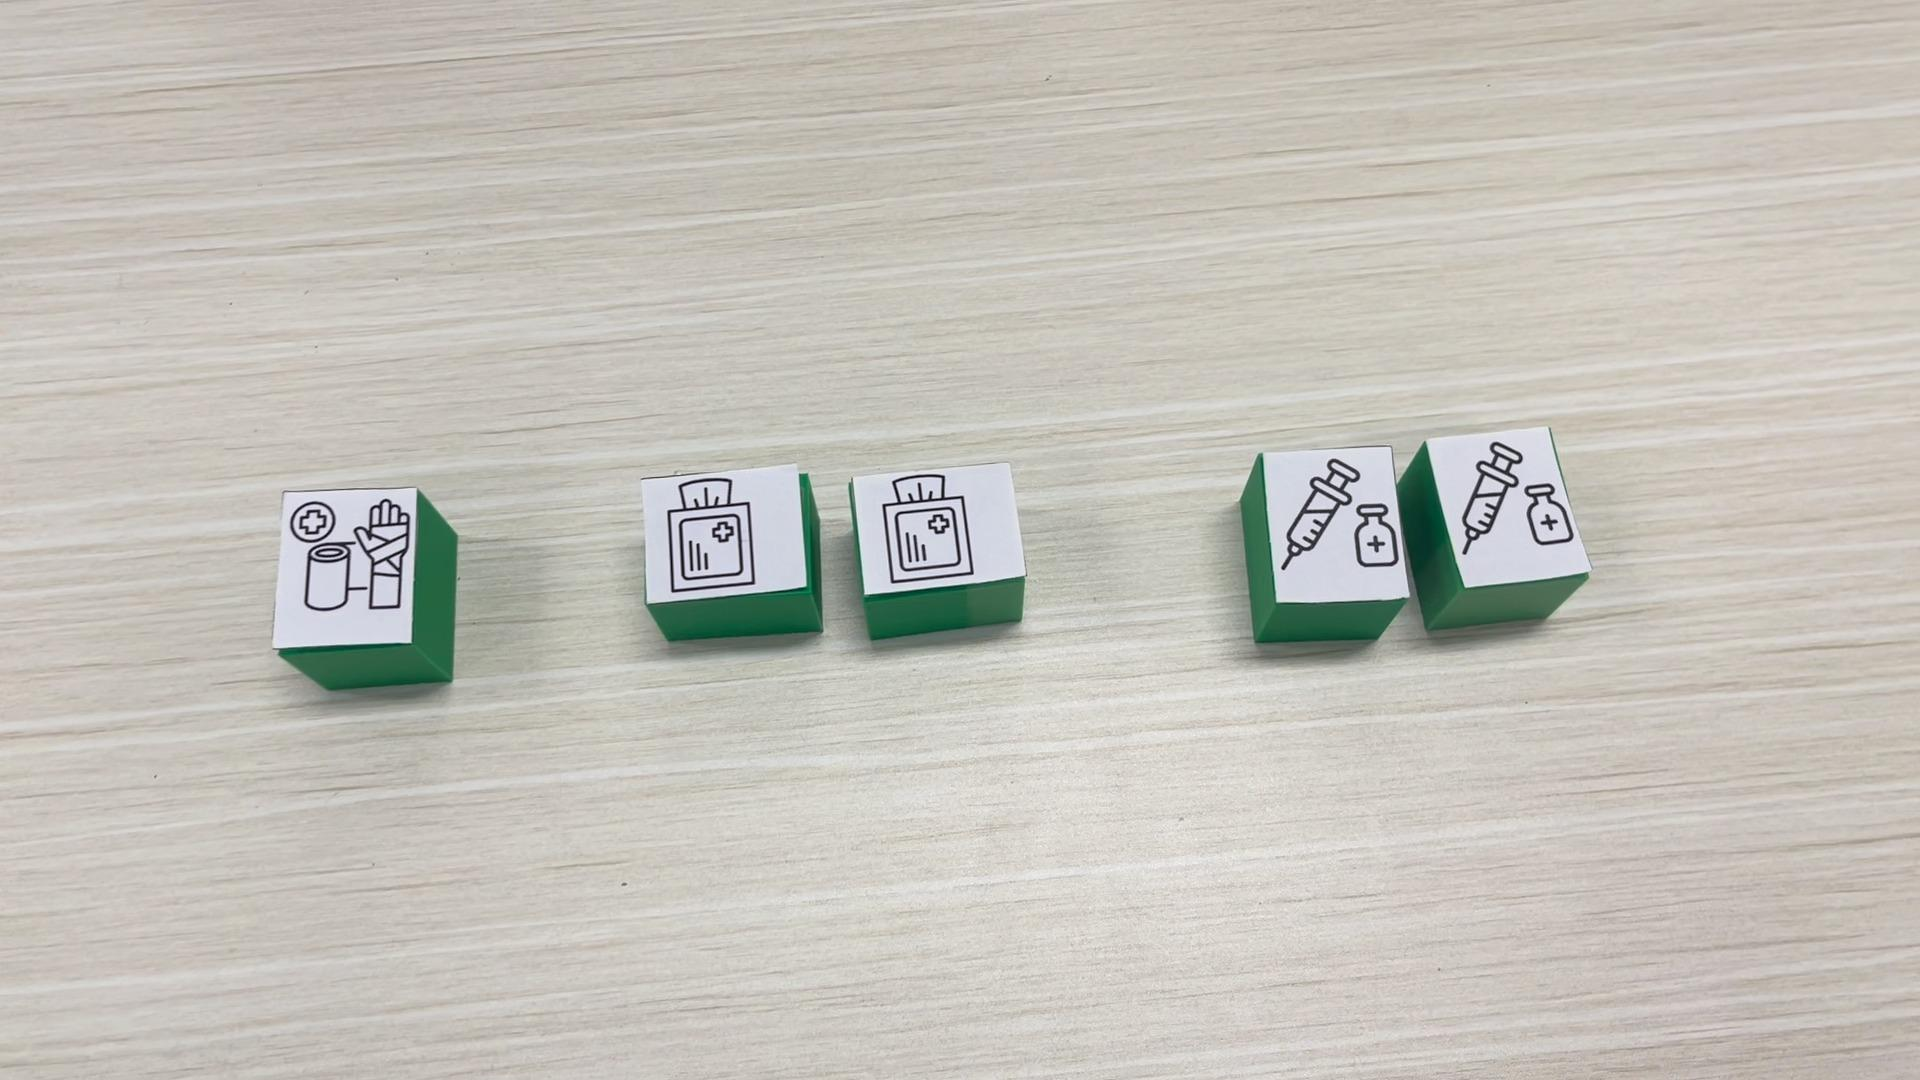Bandages: (274, 485, 456, 691)
Gauze: (851, 462, 1029, 641), (642, 467, 825, 641)
antiseptic cream: (1395, 421, 1594, 634), (1240, 443, 1411, 649)
